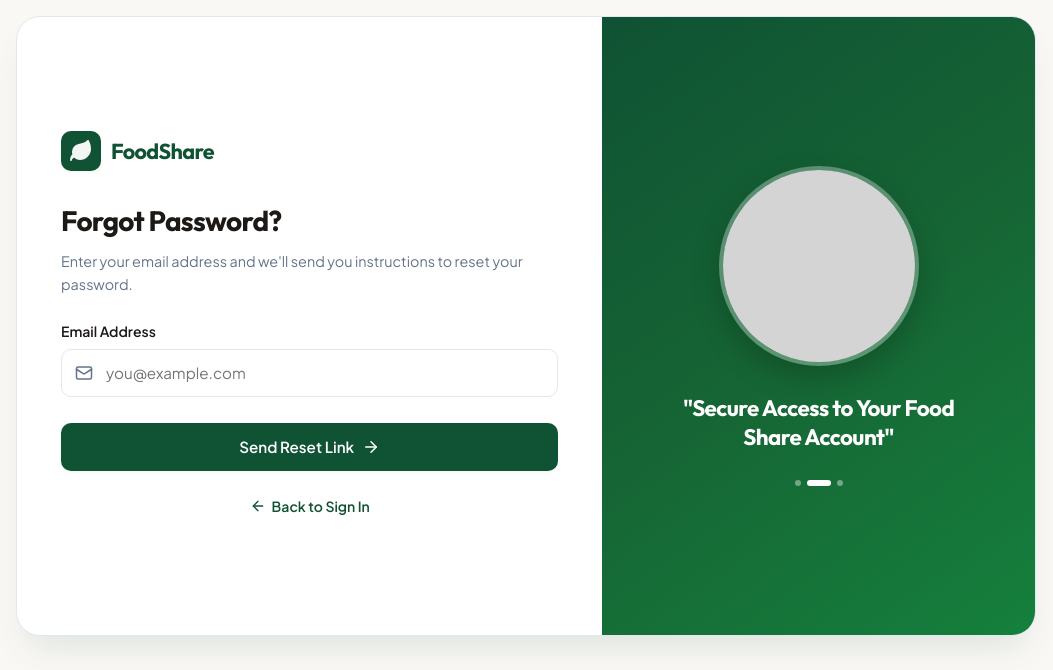
Test case: ForgotPasswordPage Component › submits email and displays generic success message
Type "user@example.com" into the field labelled "Email Address" at (310, 373), box [61,349,558,397]
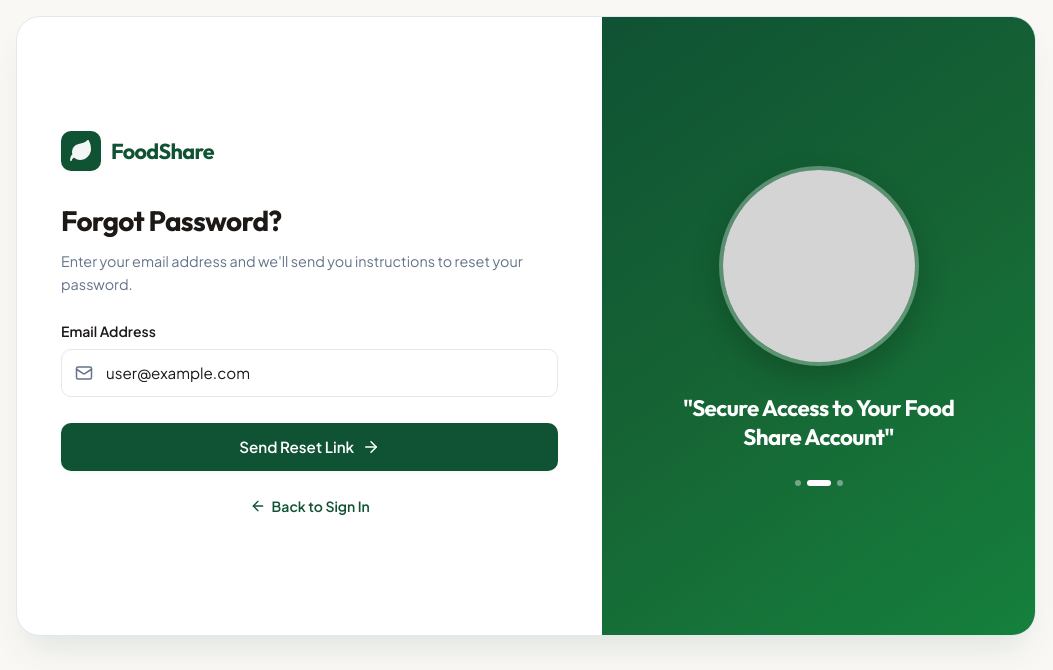
Click the button "Send Reset Link" at (310, 447), box [61,423,558,471]
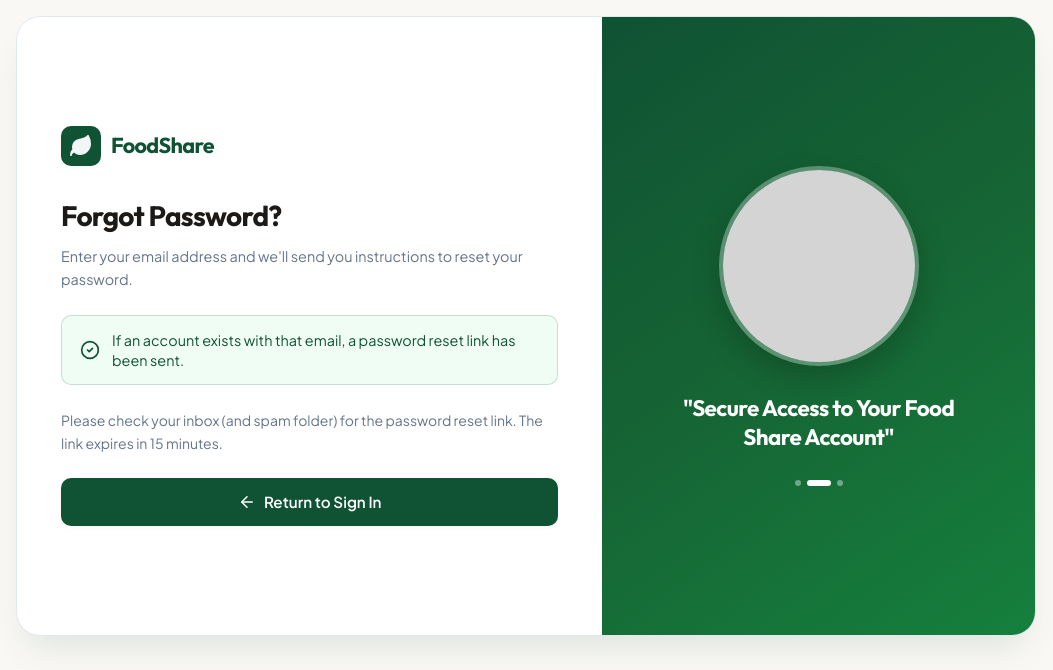
Result: the text "If an account exists with that email, a password reset link has been sent." is shown at [112,330,539,370]
Result: the text "Return to Sign In" is shown at [264,490,382,514]
